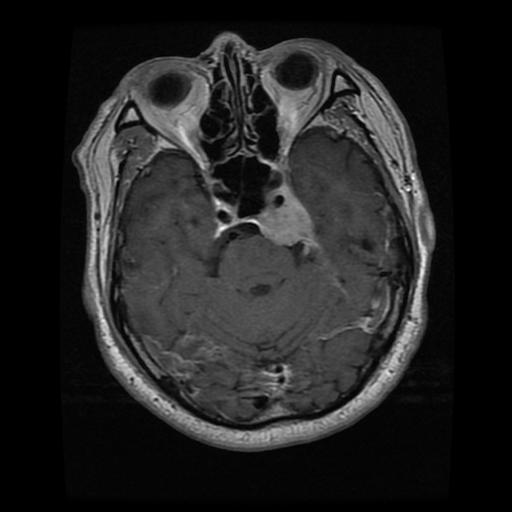Menigiomia_tumour: (257, 184, 313, 245)
